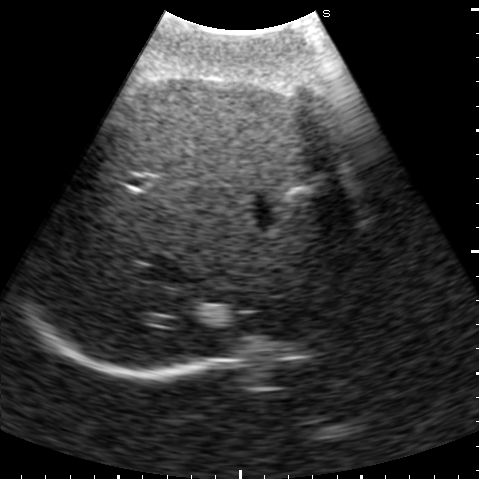S5: (116, 78, 339, 195)
S7: (26, 155, 158, 320)
S8: (81, 179, 371, 368)
Tumor: (197, 303, 234, 327)
